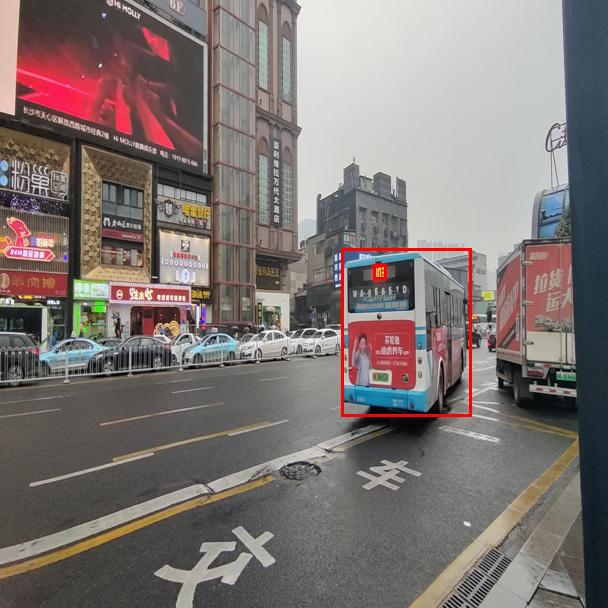bus: (341, 248, 471, 416)
screen: (373, 264, 386, 279)
